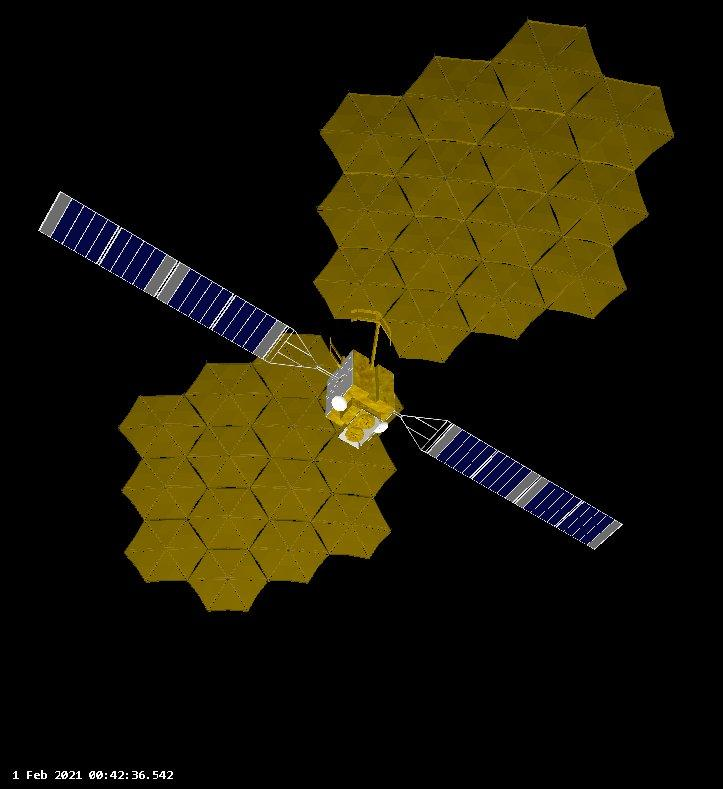antenna: (312, 18, 675, 366), (123, 330, 400, 614), (356, 414, 375, 430), (331, 396, 348, 412), (345, 428, 364, 442), (374, 422, 389, 434)
body: (323, 350, 396, 433)
solar: (37, 189, 291, 361), (420, 420, 624, 553)
